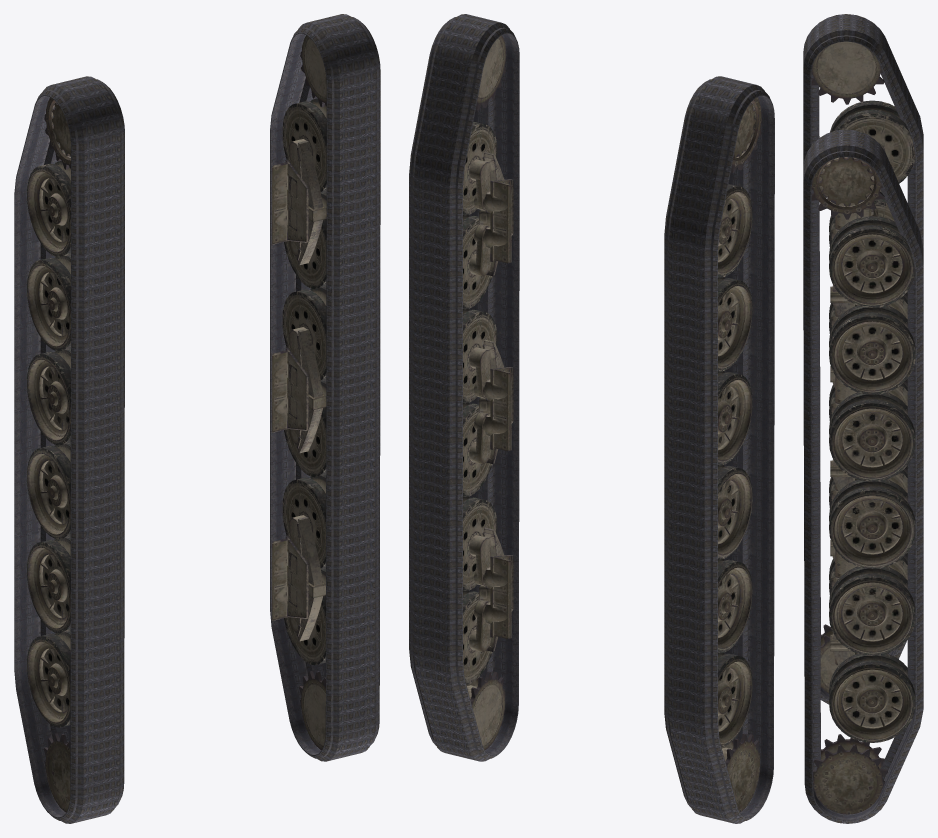
Rendered from Chassis.glb.
The picture shows the model from 3 angles, left to right: view 1: azimuth 30°, elevation 25°; view 2: azimuth 150°, elevation 25°; view 3: azimuth 270°, elevation 25°; orthographic projection. The views are drawn at different scales.
Parts seen in each view (by area): view 1: set_3_group_0, set_2_group_0, set_0_group_0, set_1_group_0; view 2: set_3_group_0, set_2_group_0, set_0_group_0, set_1_group_0; view 3: set_0_group_0, set_2_group_0, set_1_group_0, set_3_group_0.
Boxes of the visible parts, left/top/right/bottom form: set_3_group_0: left=14, top=76, right=124, bottom=823; set_2_group_0: left=270, top=14, right=380, bottom=761; set_0_group_0: left=272, top=35, right=326, bottom=750; set_1_group_0: left=27, top=97, right=70, bottom=812; set_3_group_0: left=664, top=76, right=774, bottom=823; set_2_group_0: left=409, top=14, right=519, bottom=761; set_0_group_0: left=463, top=35, right=513, bottom=749; set_1_group_0: left=718, top=97, right=761, bottom=812; set_0_group_0: left=811, top=157, right=915, bottom=814; set_2_group_0: left=803, top=129, right=923, bottom=823; set_1_group_0: left=811, top=41, right=915, bottom=693; set_3_group_0: left=803, top=14, right=923, bottom=704.
Size of the model in its own units: 2.66 by 6.04 by 0.9723.
4 materials, 4 textured.
